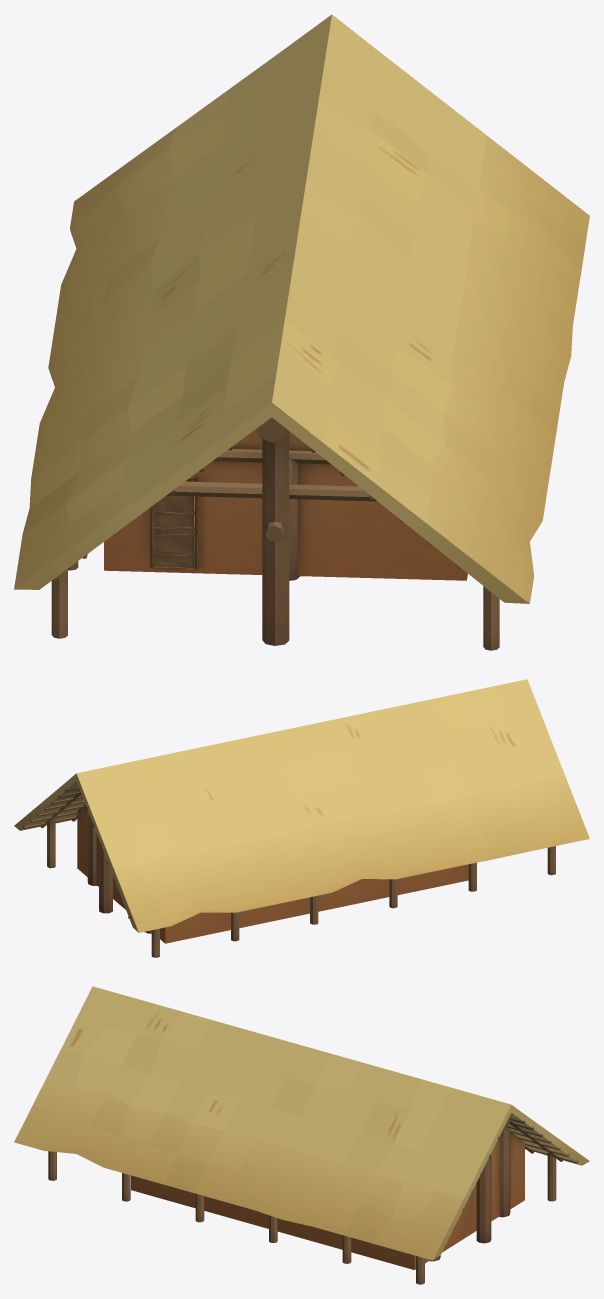
The model's file is House2.gltf.
The picture shows the model from 3 angles, top to bottom: view 1: azimuth 30°, elevation 25°; view 2: azimuth 150°, elevation 25°; view 3: azimuth 270°, elevation 25°; orthographic projection. The views are drawn at different scales.
Visible parts, largest first — view 1: House.001; view 2: House.001; view 3: House.001.
Boxes of the visible parts, bbox=[...] form: House.001: bbox=[14, 14, 589, 650]; House.001: bbox=[14, 679, 589, 957]; House.001: bbox=[14, 986, 589, 1284].
Size of the model in its own units: 18.14 by 5.59 by 20.28.
1 material, 1 textured.
